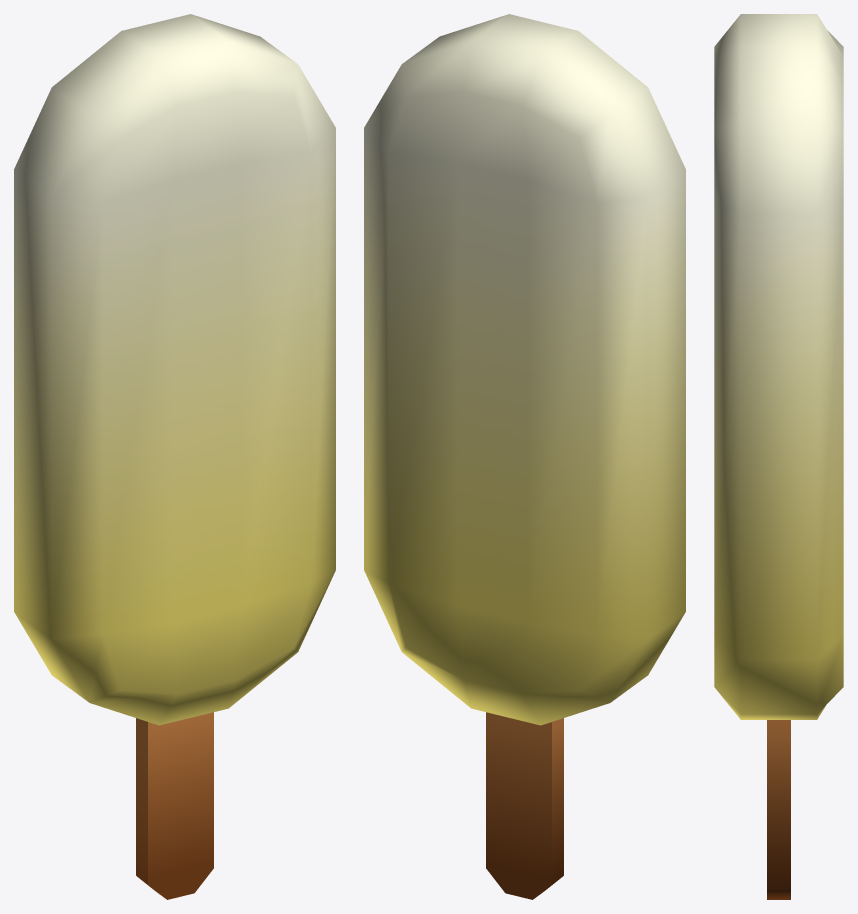
File: m_Popsicle02.fbx
3 renders of one model, left to right at view 1: azimuth 30°, elevation 25°; view 2: azimuth 150°, elevation 25°; view 3: azimuth 270°, elevation 25°, orthographic.
Parts seen in each view (by area): view 1: m_Popsicle02; view 2: m_Popsicle02; view 3: m_Popsicle02.
Boxes of the visible parts, left/top/right/bottom form: m_Popsicle02: left=14, top=14, right=335, bottom=899; m_Popsicle02: left=364, top=14, right=685, bottom=899; m_Popsicle02: left=714, top=14, right=843, bottom=899.
Size of the model in its own units: 7.98 by 22.99 by 3.12.
